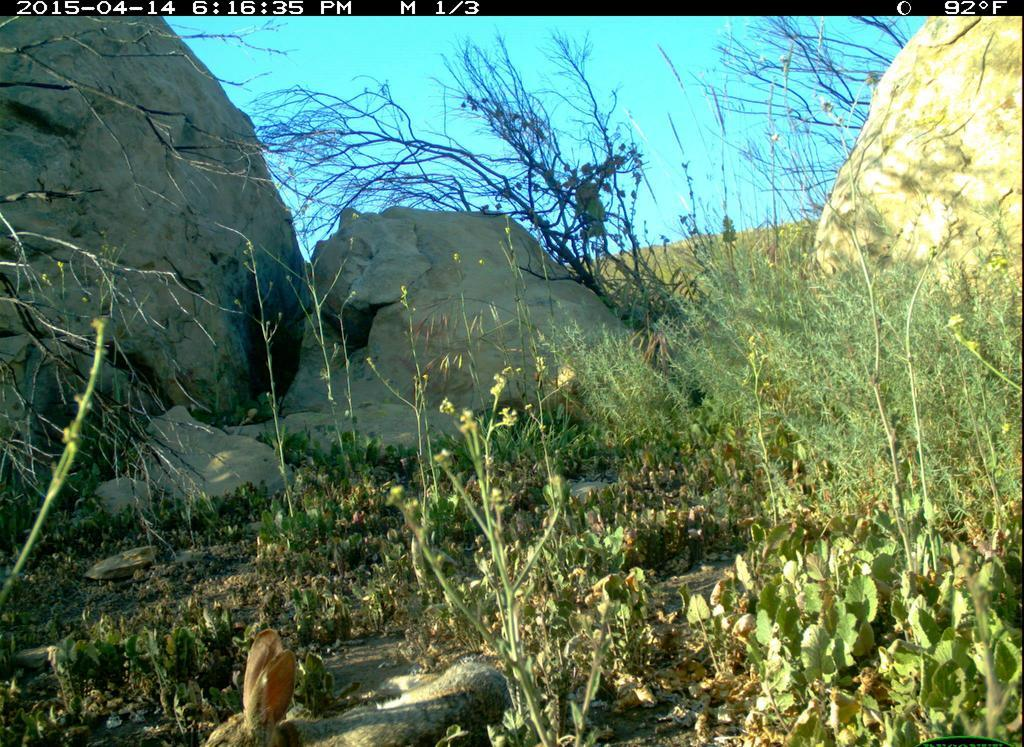rabbit: (195, 617, 511, 744)
